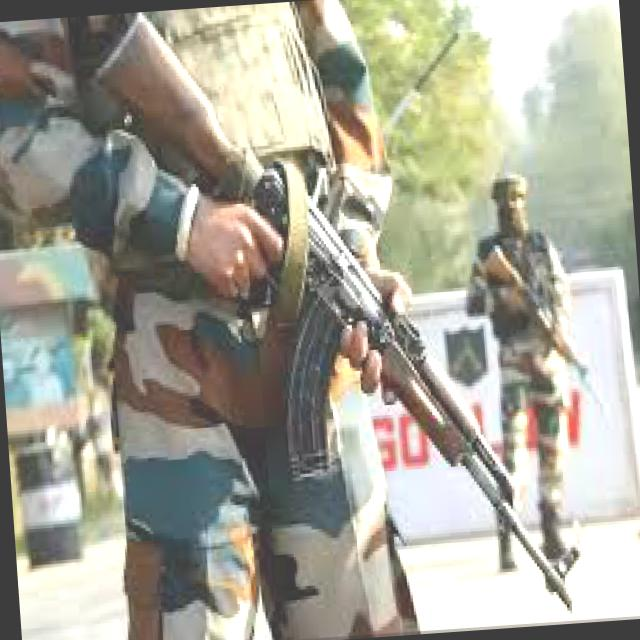long weapon: (87, 15, 607, 623)
